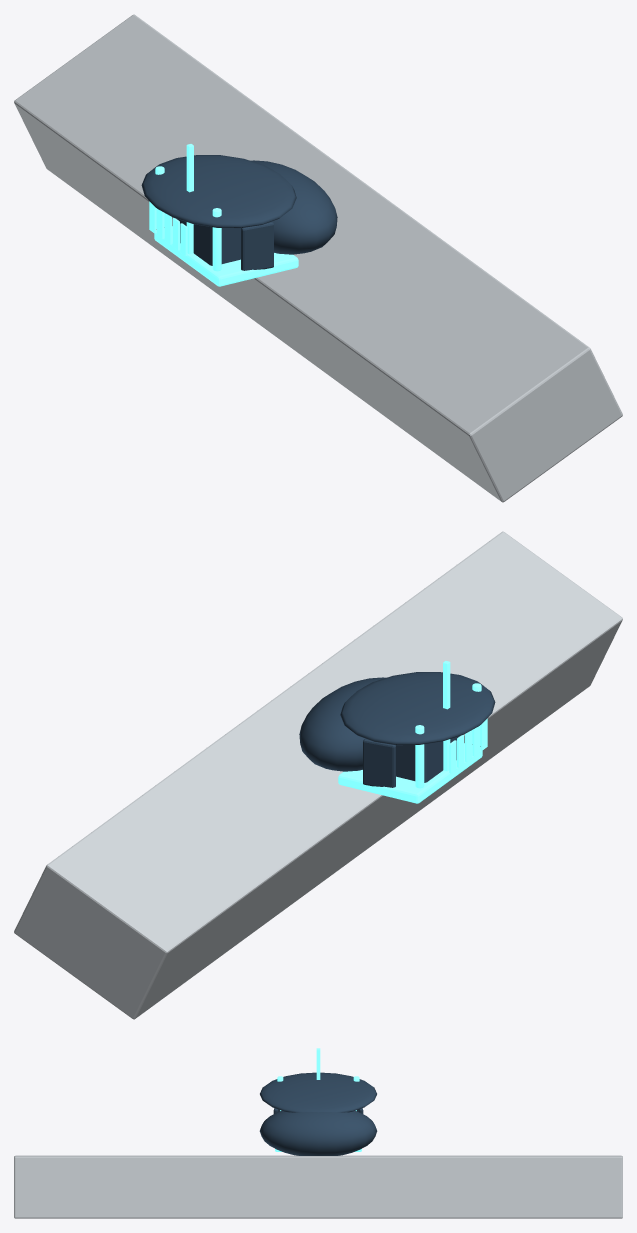
File: Titan_BlueCitadel.fbx
3 views of the same model, one above another, from view 1: azimuth 30°, elevation 25°; view 2: azimuth 150°, elevation 25°; view 3: azimuth 270°, elevation 25° (orthographic). The views are drawn at different scales.
Visible parts, largest first — view 1: BlueBackfield, Blue_RoofCanopy, Blue_RearHull, Blue_Platform, Blue_Wing_-1, Blue_Citadel; view 2: BlueBackfield, Blue_RoofCanopy, Blue_RearHull, Blue_Platform, Blue_Wing_1, Blue_Citadel; view 3: BlueBackfield, Blue_RearHull, Blue_RoofCanopy.
Boxes of the visible parts, bbox=[...] form: BlueBackfield: bbox=[14, 14, 622, 502]; Blue_RoofCanopy: bbox=[141, 155, 296, 228]; Blue_RearHull: bbox=[251, 160, 337, 254]; Blue_Platform: bbox=[154, 226, 298, 286]; Blue_Wing_-1: bbox=[241, 221, 273, 270]; Blue_Citadel: bbox=[177, 219, 240, 265]; BlueBackfield: bbox=[14, 531, 622, 1019]; Blue_RoofCanopy: bbox=[340, 672, 495, 745]; Blue_RearHull: bbox=[299, 677, 385, 771]; Blue_Platform: bbox=[338, 743, 482, 803]; Blue_Wing_1: bbox=[363, 738, 395, 787]; Blue_Citadel: bbox=[396, 736, 459, 782]; BlueBackfield: bbox=[14, 1155, 622, 1218]; Blue_RearHull: bbox=[259, 1110, 377, 1155]; Blue_RoofCanopy: bbox=[260, 1072, 376, 1112].
Bounding box in the file's own units: 1335 × 1125 × 4400.
